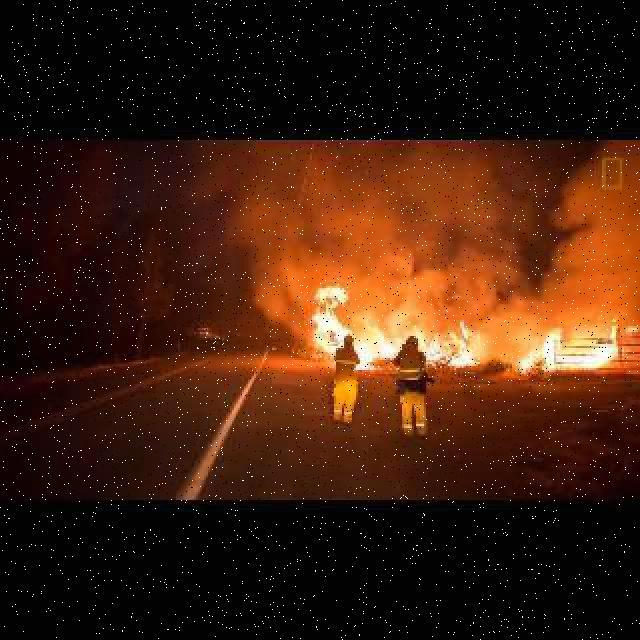Fire: (310, 290, 478, 372)
Smoke: (356, 144, 610, 324), (226, 174, 318, 308)
